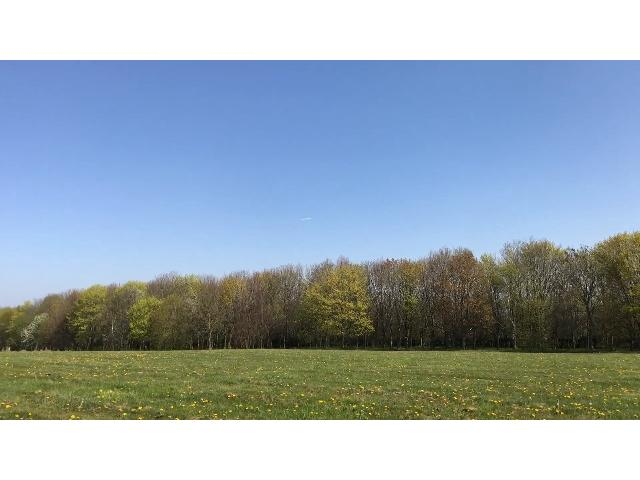Anti-Drone: (298, 215, 320, 225)
